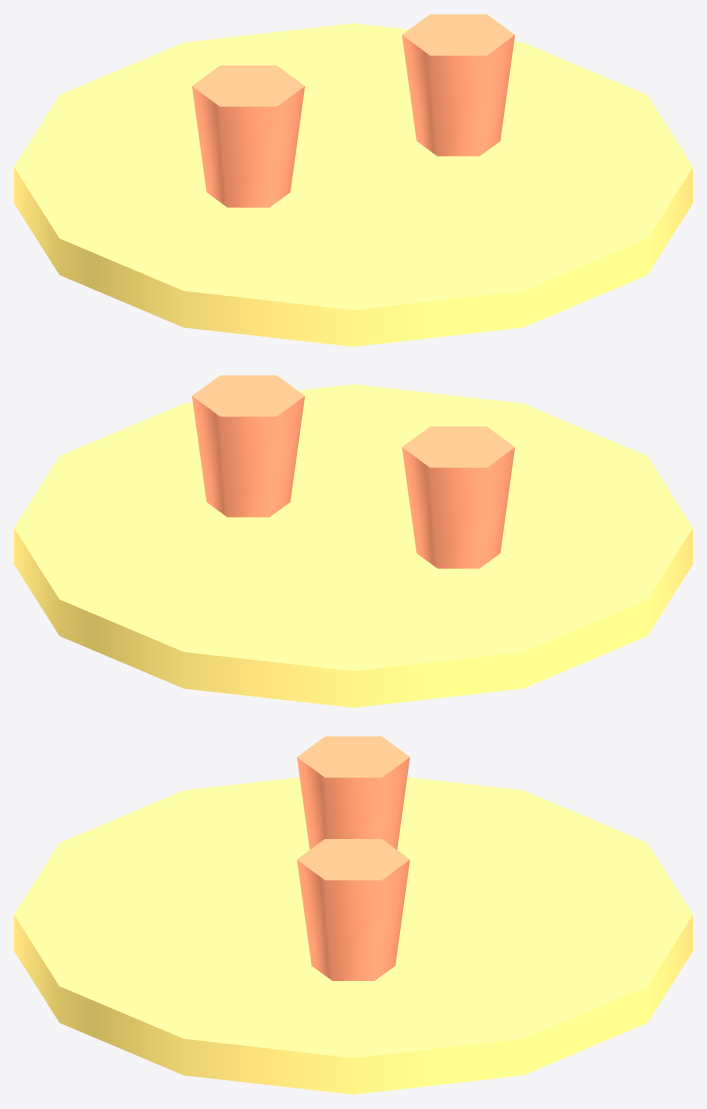
The model's file is tepsi.glb.
3 renders of one model, top to bottom at view 1: azimuth 30°, elevation 25°; view 2: azimuth 150°, elevation 25°; view 3: azimuth 270°, elevation 25°, orthographic.
Bounding box in the file's own units: 0.84 × 0.195 × 0.84.
